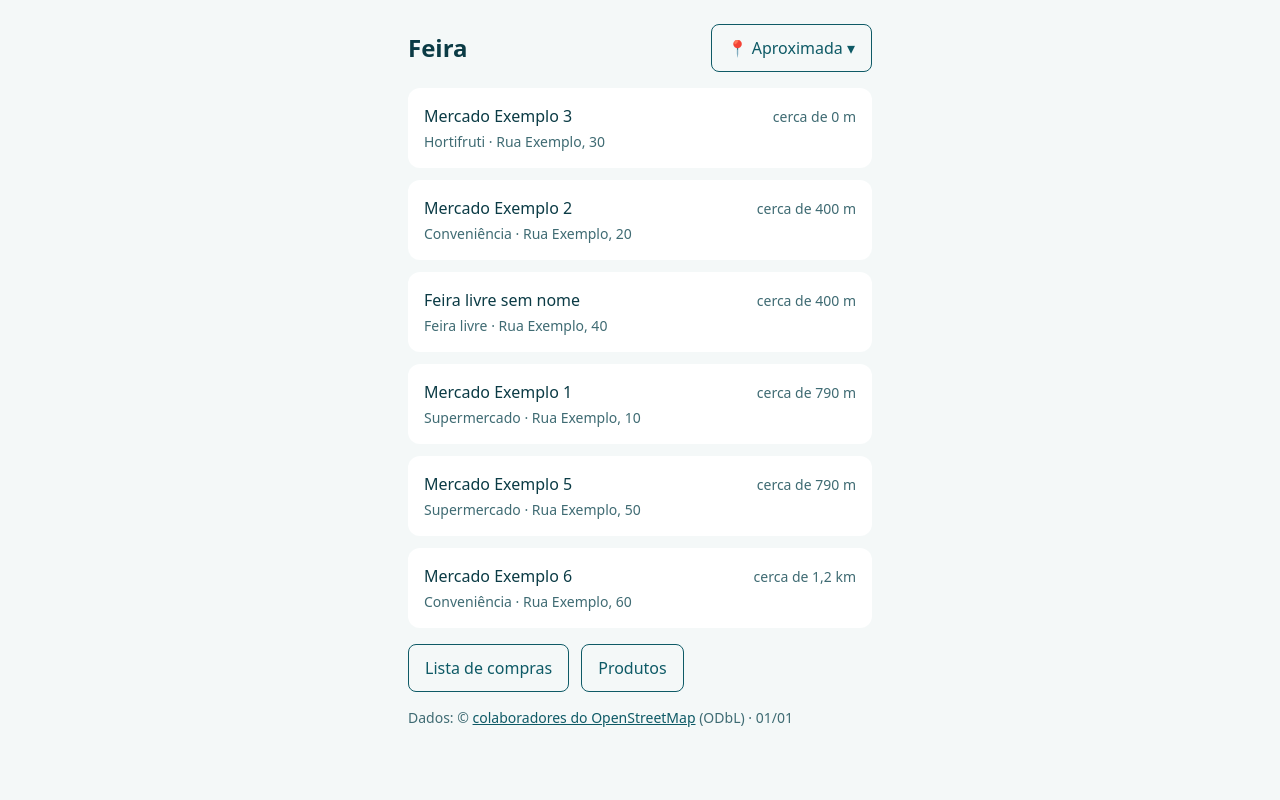
FeiraPage › youthMakesNoHomeRequestAndHasNoFamilyAddress
The width and height of the screenshot is (1280, 800).
Expected: the text "Mercado Exemplo 3" is shown, x1=424 y1=104 x2=572 y2=128
Click the button "📍 Aproximada ▾" at (791,48), box x1=711 y1=24 x2=872 y2=72
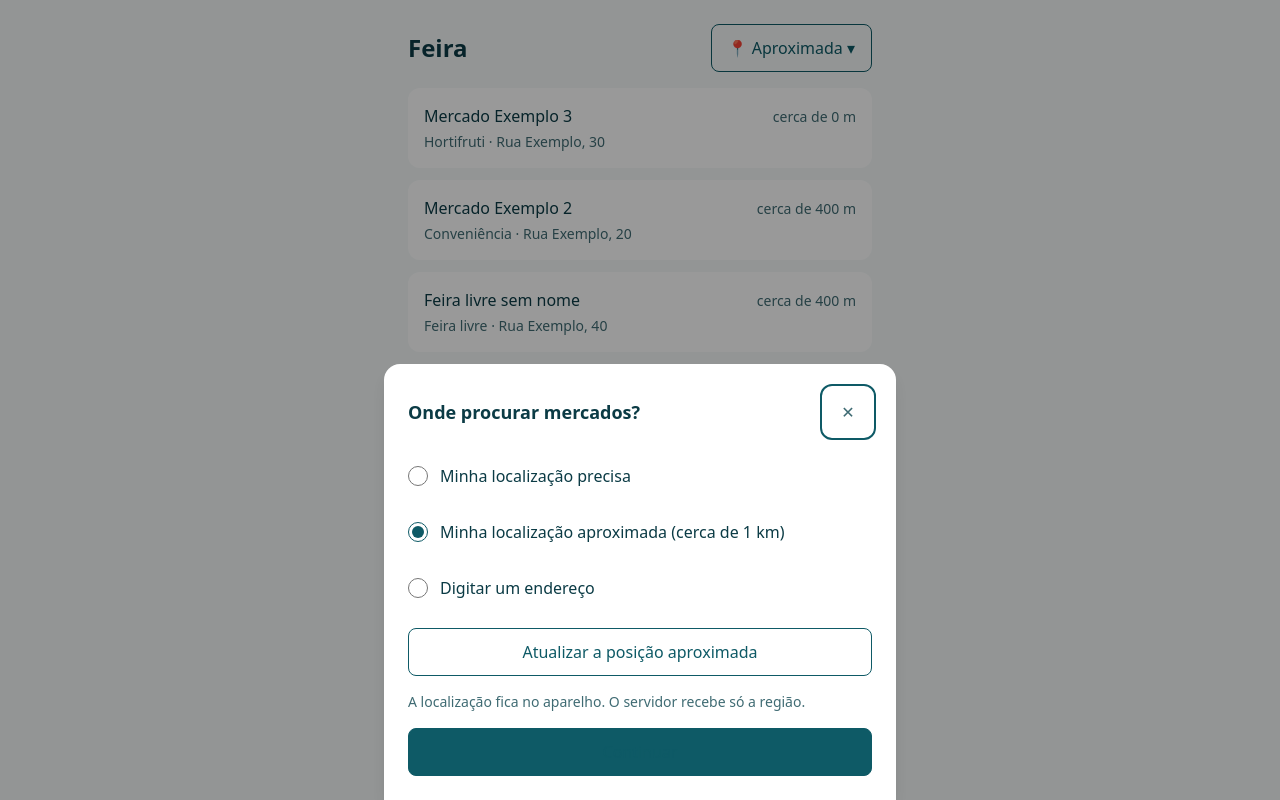
Result: the radio button labelled "Minha localização precisa" is shown at x1=408 y1=466 x2=428 y2=486
